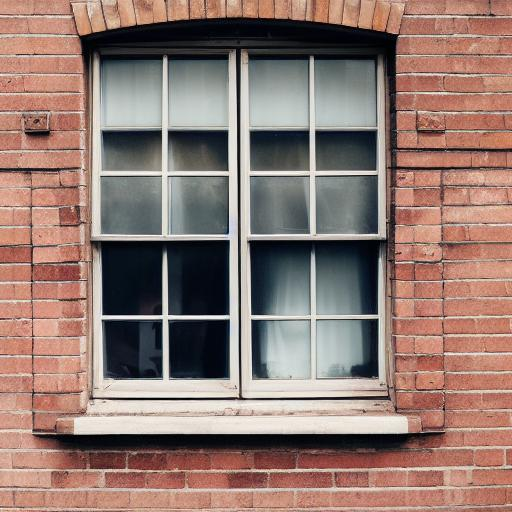Window: (70, 0, 412, 440)
